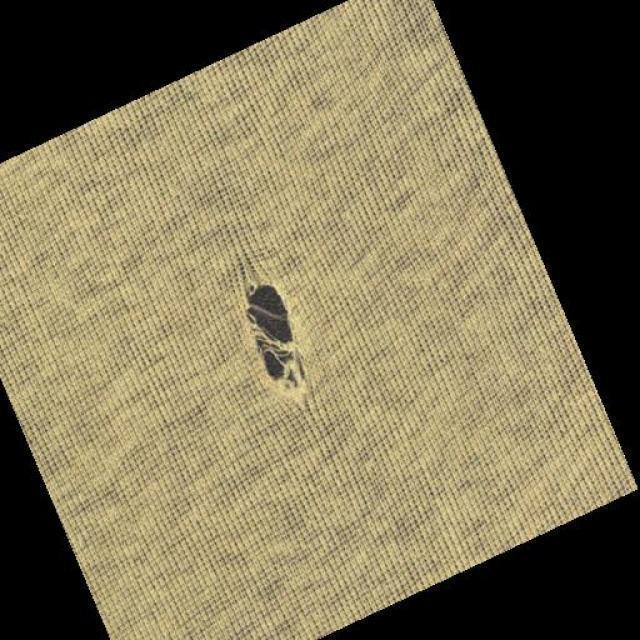other: (205, 218, 340, 416)
